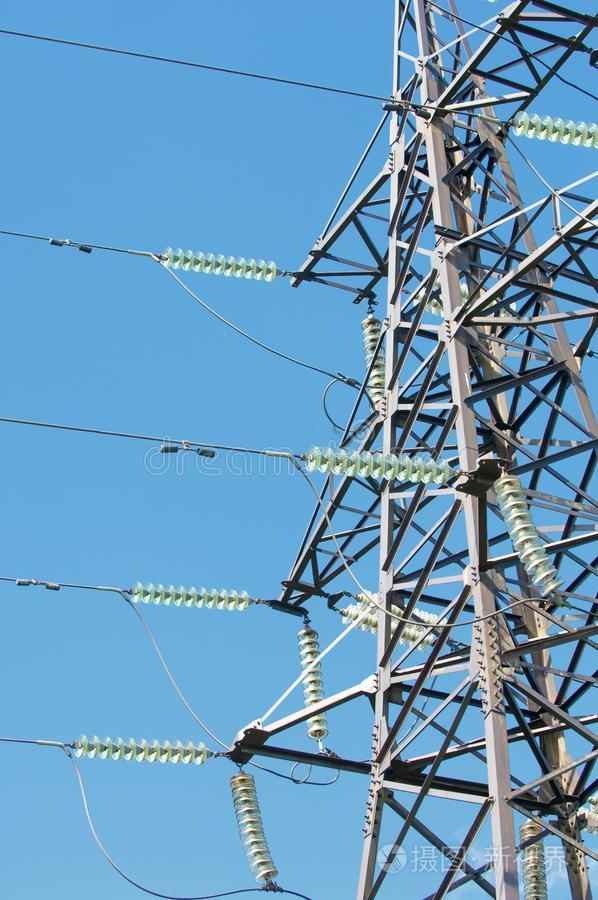insulator: (491, 471, 565, 598), (303, 445, 450, 487), (337, 591, 448, 646), (230, 768, 276, 884), (73, 734, 209, 768), (294, 627, 328, 739), (160, 248, 275, 281), (127, 582, 250, 612), (511, 110, 598, 145), (517, 821, 552, 900), (358, 317, 383, 405)
